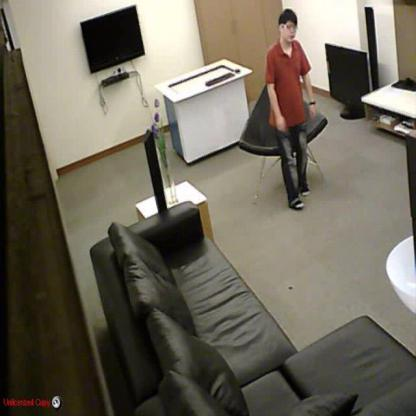Person: (265, 8, 317, 212)
